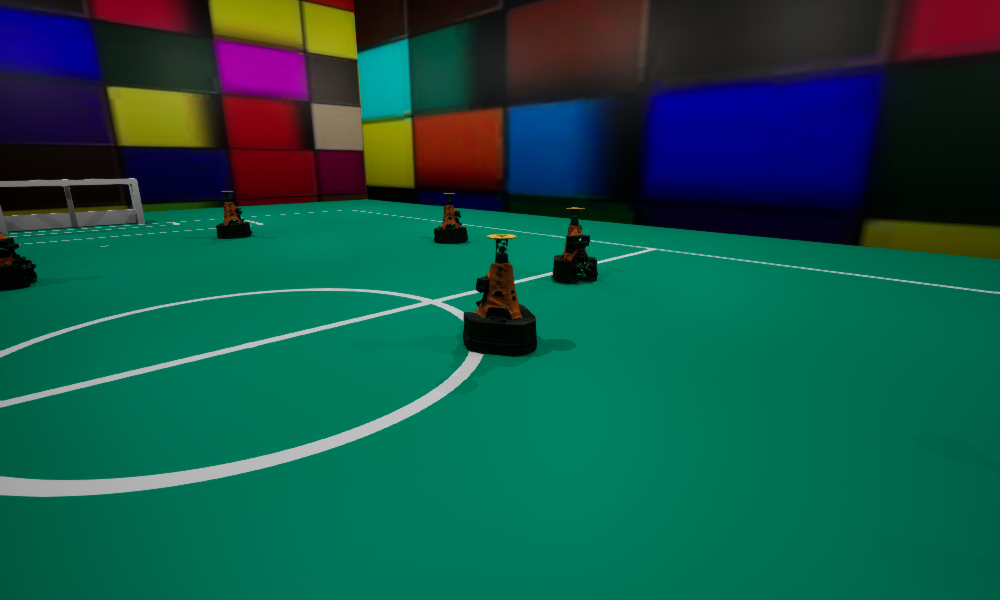o: (463, 234, 536, 356), (552, 207, 597, 283), (0, 232, 36, 290), (434, 193, 467, 243), (216, 191, 251, 238)
